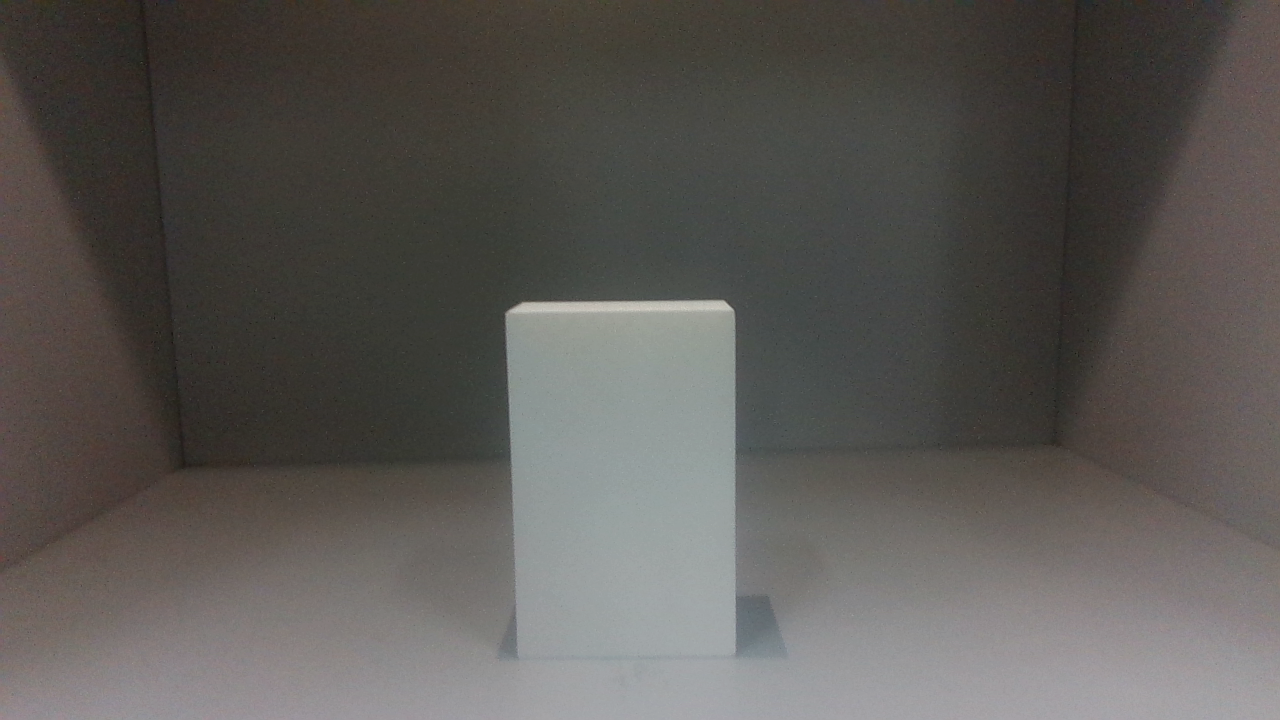Retangulo: (505, 300, 737, 658)
